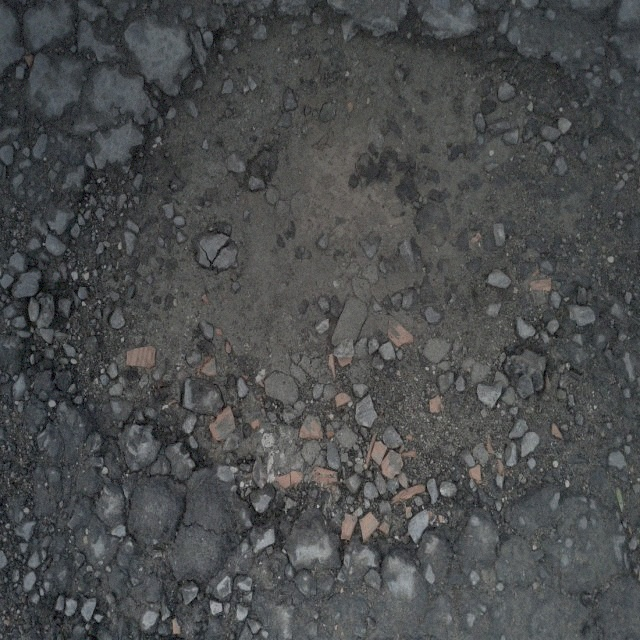pothole: (65, 21, 601, 534)
